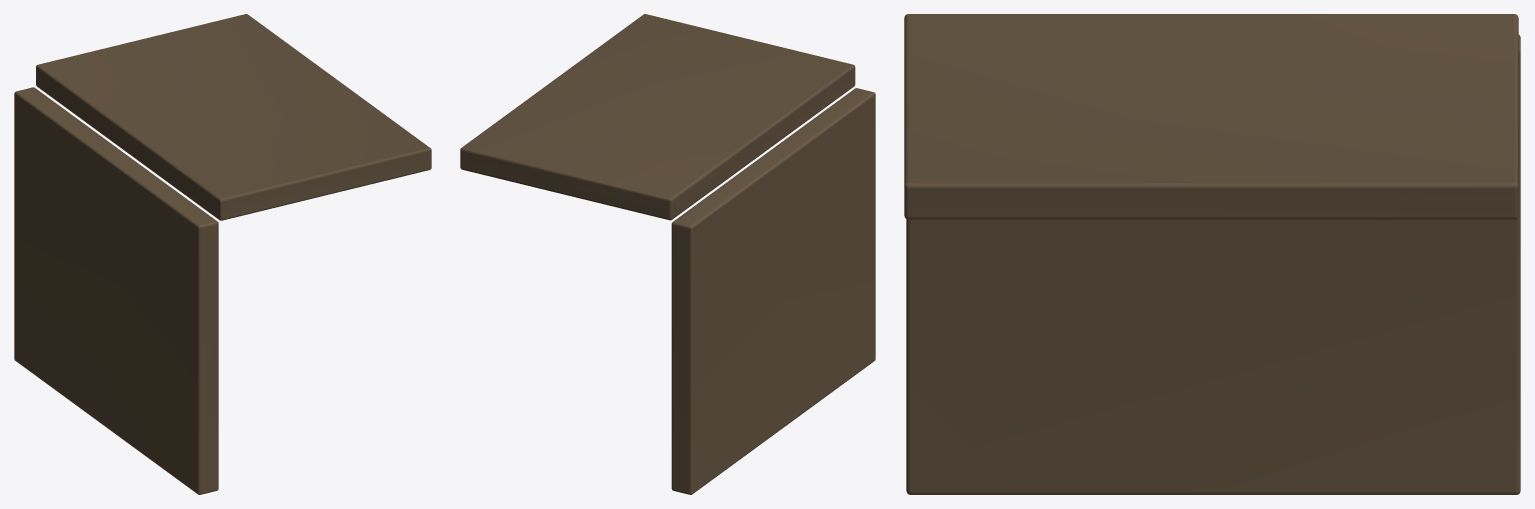
Rendered from temple08_lod1.glb.
3 views of the same model, side by side, from view 1: azimuth 30°, elevation 25°; view 2: azimuth 150°, elevation 25°; view 3: azimuth 270°, elevation 25° (orthographic). The views are drawn at different scales.
Visible parts, largest first — view 1: TEMPLE08_original_v5.001; view 2: TEMPLE08_original_v5.001; view 3: TEMPLE08_original_v5.001.
Boxes of the visible parts, <box> form: TEMPLE08_original_v5.001: <box>14,14,431,494</box>; TEMPLE08_original_v5.001: <box>460,14,875,494</box>; TEMPLE08_original_v5.001: <box>904,14,1520,494</box>.
Size of the model in its own units: 2.22 by 2.65 by 3.06.
